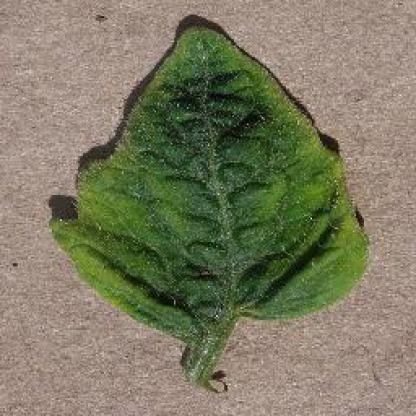bad leaf: (35, 8, 388, 404)
